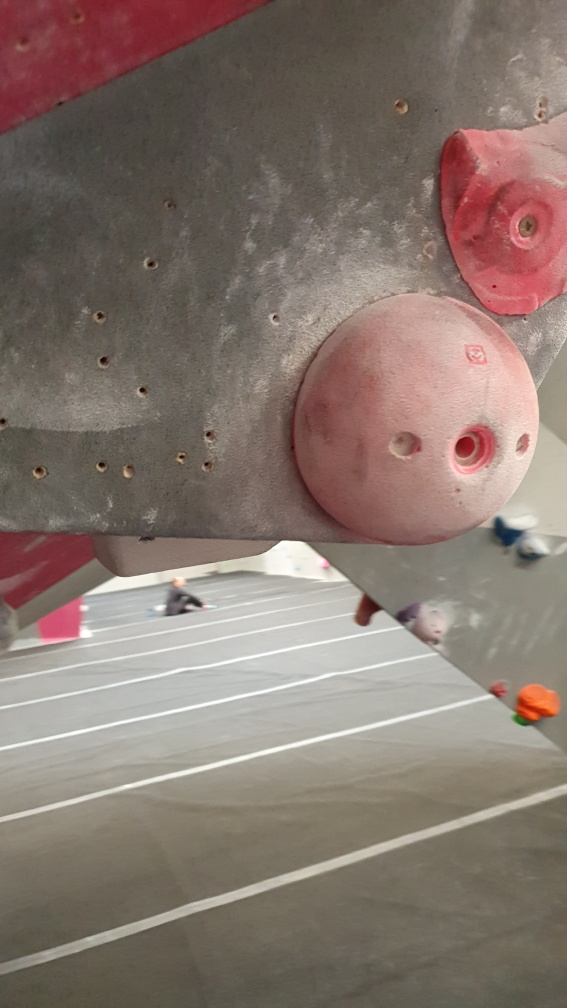Sloper: (289, 282, 546, 548)
